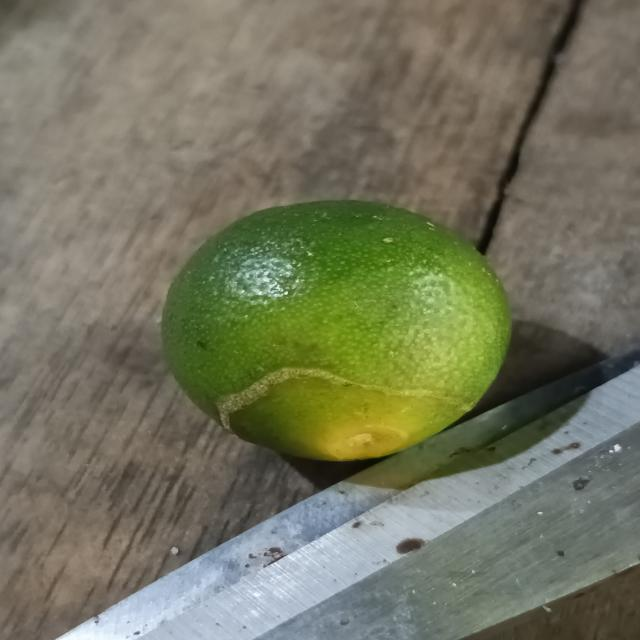thrips: (165, 198, 519, 466)
